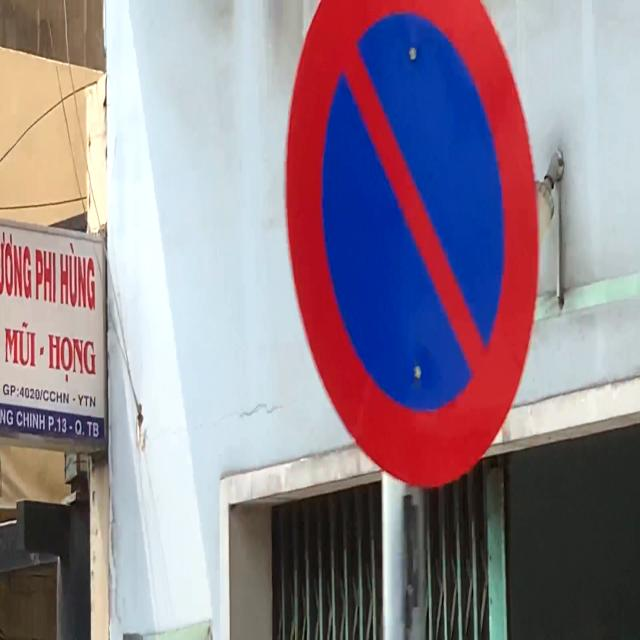P.131a: (277, 0, 540, 498)
